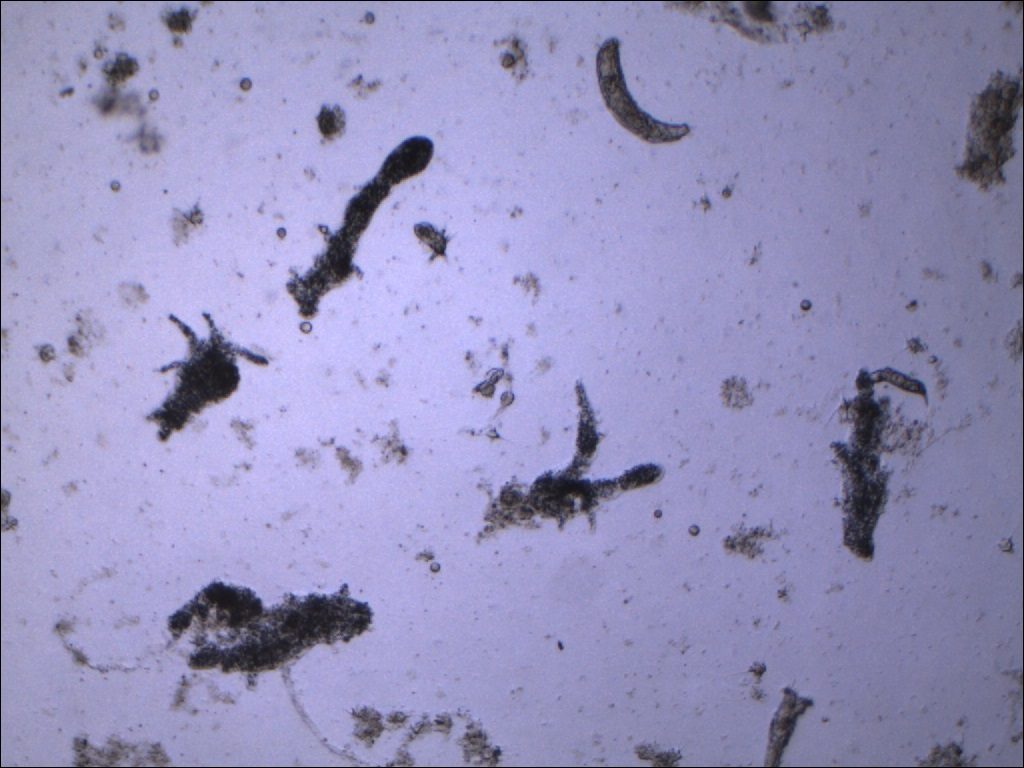amoeba: (281, 134, 444, 318), (524, 375, 676, 544), (165, 575, 385, 684), (140, 306, 275, 447), (819, 383, 902, 570)
